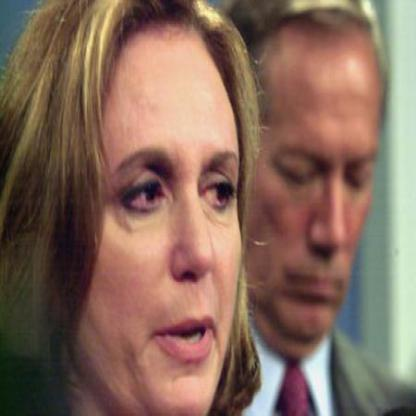face: (225, 1, 383, 351), (1, 1, 3, 3)
